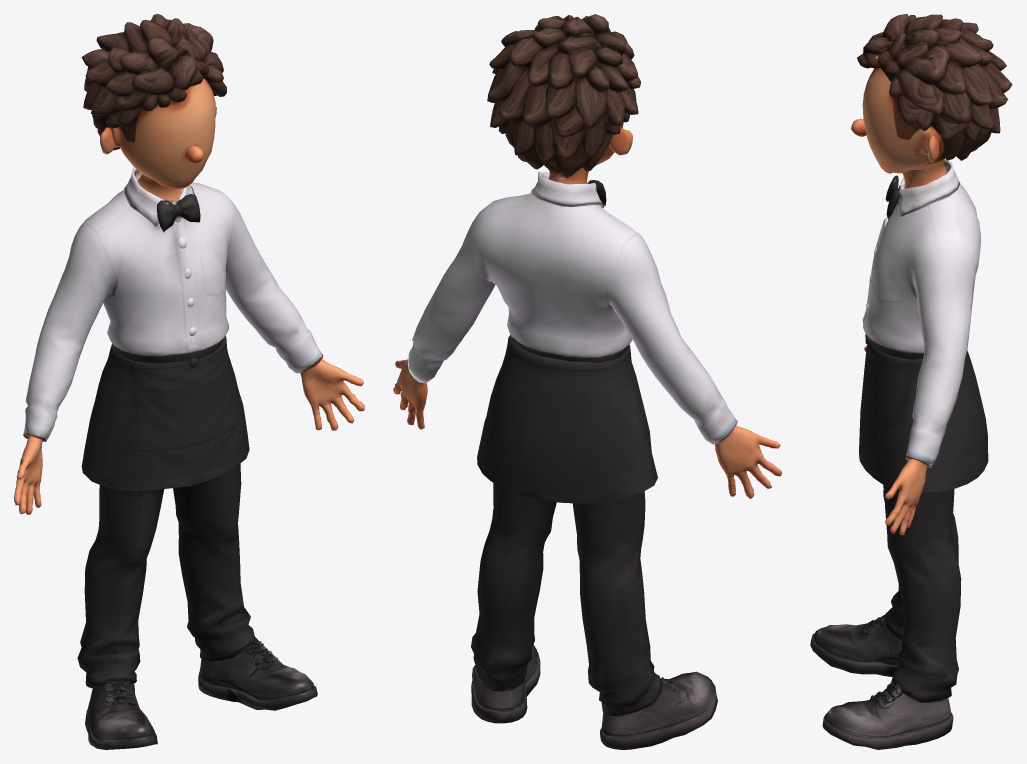
3 views of the same model, side by side, from view 1: azimuth 30°, elevation 25°; view 2: azimuth 150°, elevation 25°; view 3: azimuth 270°, elevation 25° (orthographic). The views are drawn at different scales.
Visible parts, largest first — view 1: tripo_node_df831e14-d4bb-49f6-b42c-60303ae52ca6; view 2: tripo_node_df831e14-d4bb-49f6-b42c-60303ae52ca6; view 3: tripo_node_df831e14-d4bb-49f6-b42c-60303ae52ca6.
Part boxes in pixels (left/top/right/bottom): tripo_node_df831e14-d4bb-49f6-b42c-60303ae52ca6: left=14, top=14, right=364, bottom=749; tripo_node_df831e14-d4bb-49f6-b42c-60303ae52ca6: left=393, top=14, right=781, bottom=749; tripo_node_df831e14-d4bb-49f6-b42c-60303ae52ca6: left=810, top=14, right=1012, bottom=749.
Bounding box in the file's own units: 0.5541 × 1 × 0.2706.
1 material, 1 textured.
